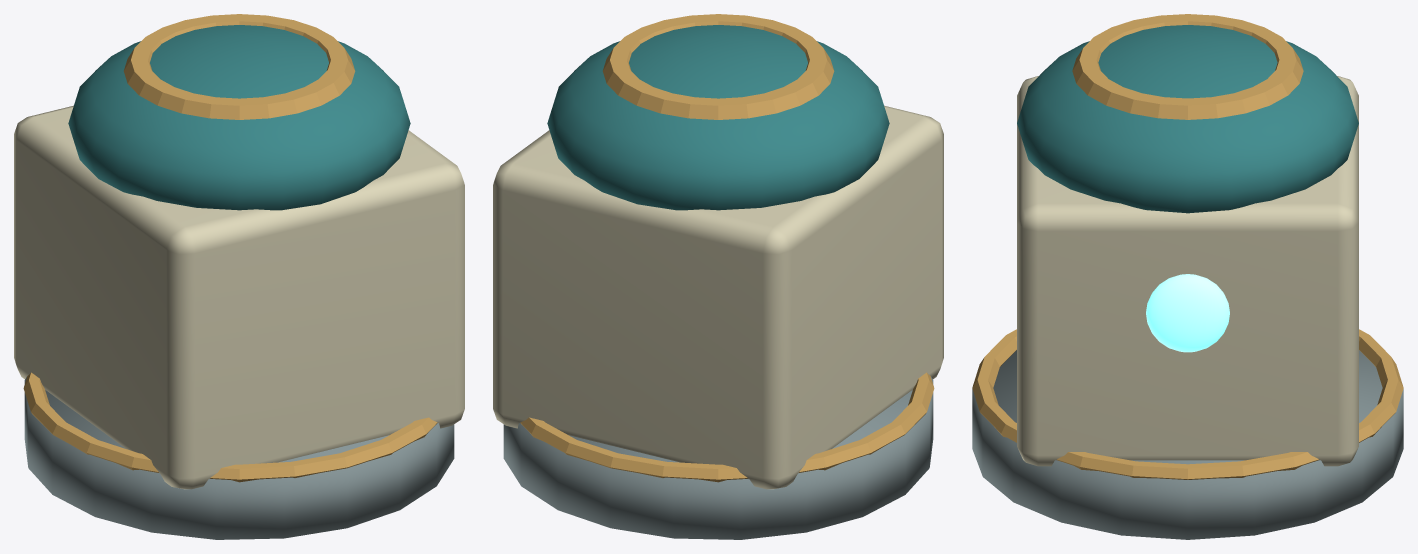
File: module-drone.glb
3 views of the same model, side by side, from view 1: azimuth 30°, elevation 25°; view 2: azimuth 150°, elevation 25°; view 3: azimuth 270°, elevation 25° (orthographic).
Parts seen in each view (by area): view 1: module-drone / Ceramic | warm ivory, module-drone / Paint | North Sea petrol, module-drone / Iron | weathered steel, module-drone / Brass | machined champagne; view 2: module-drone / Ceramic | warm ivory, module-drone / Paint | North Sea petrol, module-drone / Iron | weathered steel, module-drone / Brass | machined champagne; view 3: module-drone / Ceramic | warm ivory, module-drone / Paint | North Sea petrol, module-drone / Iron | weathered steel, module-drone / Brass | machined champagne, module-drone / Glass | luminous mint.
Part boxes in pixels (x1=…): module-drone / Ceramic | warm ivory: x1=14, y1=105, x2=464, y2=489; module-drone / Paint | North Sea petrol: x1=68, y1=25, x2=410, y2=210; module-drone / Iron | weathered steel: x1=24, y1=377, x2=454, y2=539; module-drone / Brass | machined champagne: x1=23, y1=14, x2=437, y2=482; module-drone / Ceramic | warm ivory: x1=493, y1=105, x2=943, y2=489; module-drone / Paint | North Sea petrol: x1=547, y1=25, x2=889, y2=210; module-drone / Iron | weathered steel: x1=503, y1=377, x2=933, y2=539; module-drone / Brass | machined champagne: x1=520, y1=14, x2=934, y2=482; module-drone / Ceramic | warm ivory: x1=1017, y1=76, x2=1358, y2=466; module-drone / Paint | North Sea petrol: x1=1017, y1=25, x2=1358, y2=213; module-drone / Iron | weathered steel: x1=972, y1=350, x2=1403, y2=539; module-drone / Brass | machined champagne: x1=972, y1=14, x2=1403, y2=479; module-drone / Glass | luminous mint: x1=1146, y1=274, x2=1229, y2=352.
Bounding box in the file's own units: 1.64 × 1.67 × 1.64.
